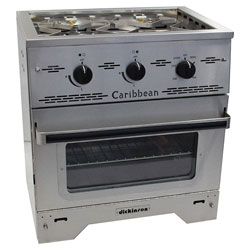stove: (13, 8, 222, 225)
